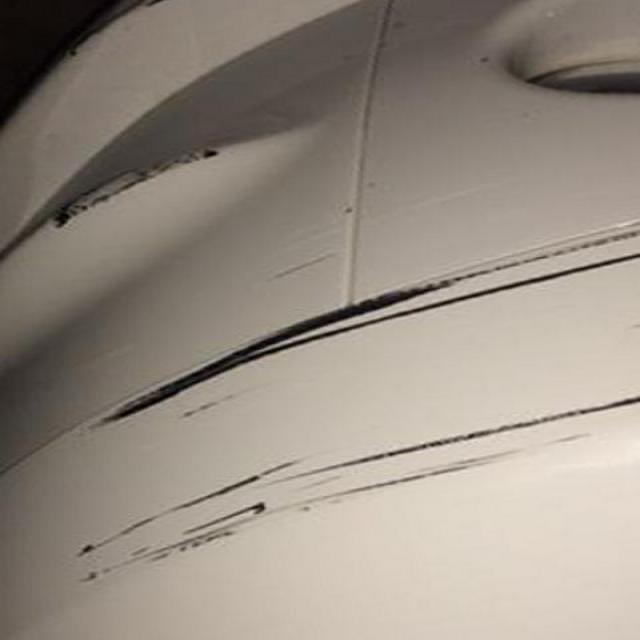scratch: (90, 214, 633, 575), (0, 140, 238, 268)
